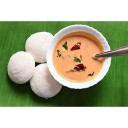idly: (33, 61, 60, 96), (8, 52, 34, 83), (27, 33, 51, 61)
